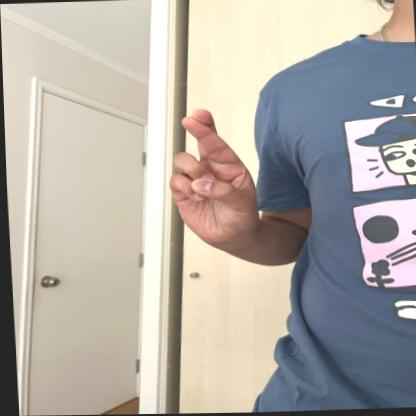R: (162, 104, 258, 247)
